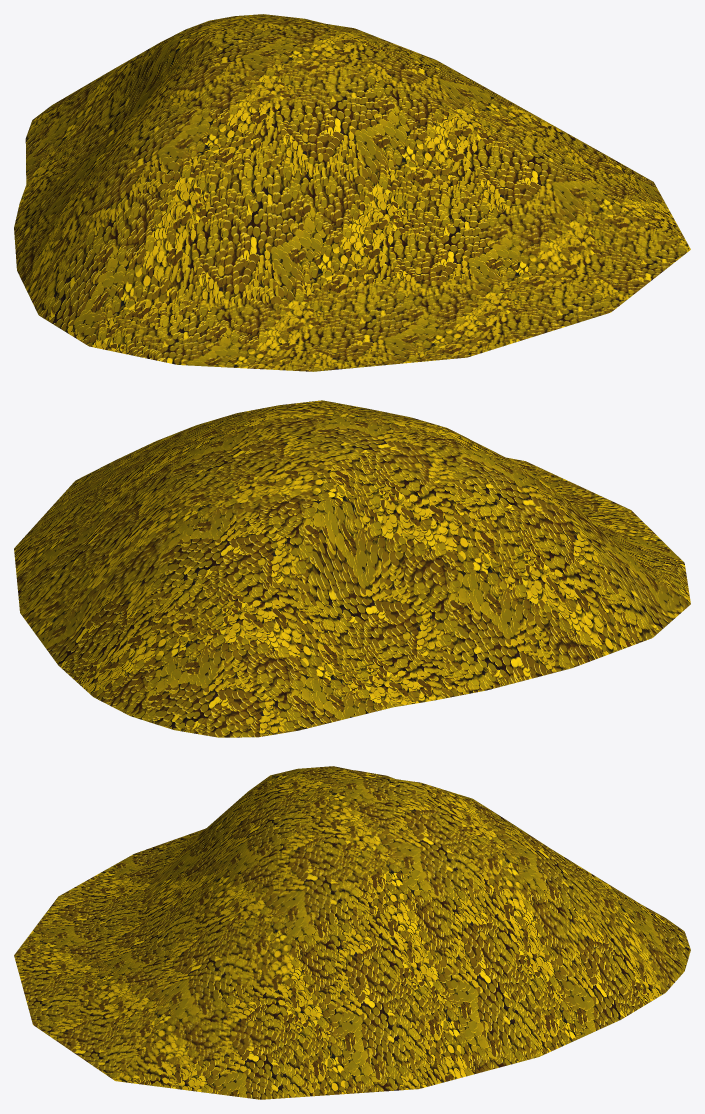
Rendered from INST_SM_GOLDPILE_LARGEB.fbx.
The picture shows the model from 3 angles, top to bottom: view 1: azimuth 30°, elevation 25°; view 2: azimuth 150°, elevation 25°; view 3: azimuth 270°, elevation 25°; orthographic projection. The views are drawn at different scales.
Visible parts, largest first — view 1: INST_SM_GOLDPILE_LARGEB; view 2: INST_SM_GOLDPILE_LARGEB; view 3: INST_SM_GOLDPILE_LARGEB.
Boxes of the visible parts, x1,y1,x2,y2 form: INST_SM_GOLDPILE_LARGEB: [14, 14, 690, 371]; INST_SM_GOLDPILE_LARGEB: [14, 400, 690, 737]; INST_SM_GOLDPILE_LARGEB: [14, 766, 690, 1099].
Bounding box in the file's own units: 126250 × 35304 × 133750.
1 material, 1 textured.
